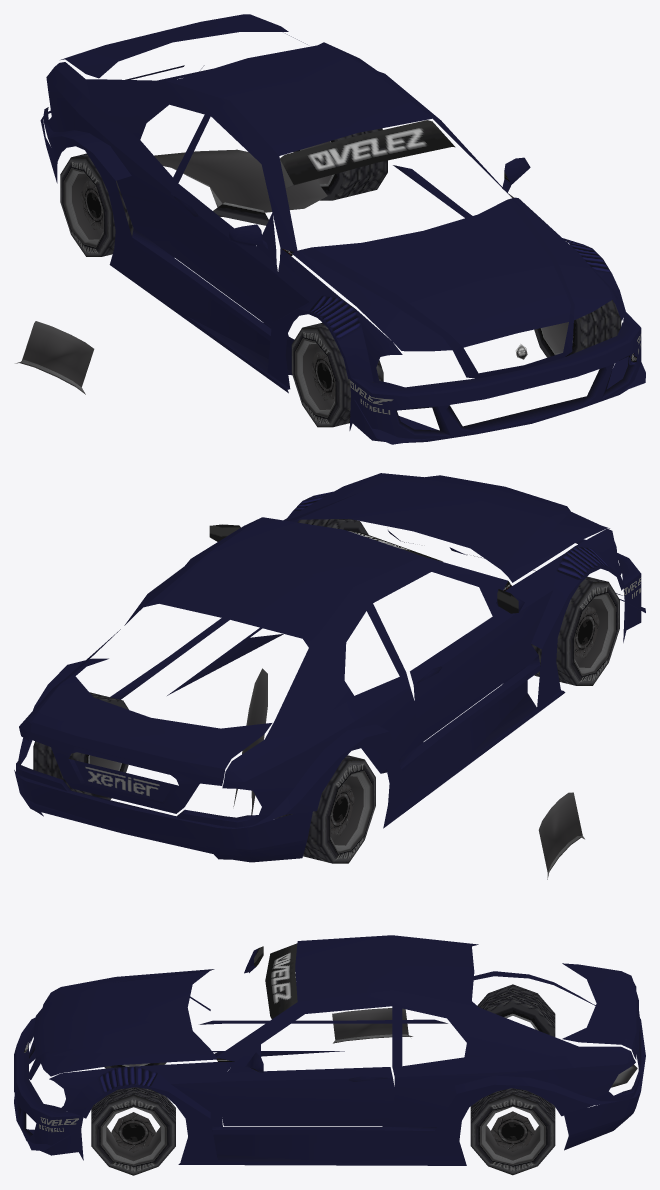
The model's file is car-CUPE_Car3.glb.
3 views of the same model, one above another, from view 1: azimuth 30°, elevation 25°; view 2: azimuth 150°, elevation 25°; view 3: azimuth 270°, elevation 25° (orthographic). The views are drawn at different scales.
Visible parts, largest first — view 1: CUPE_Car3; view 2: CUPE_Car3; view 3: CUPE_Car3.
Boxes of the visible parts, x1,y1,x2,y2 form: CUPE_Car3: [15, 14, 645, 444]; CUPE_Car3: [14, 473, 645, 879]; CUPE_Car3: [14, 935, 645, 1175].
Bounding box in the file's own units: 2.9 × 1.5 × 4.65.
13 materials, 13 textured.
